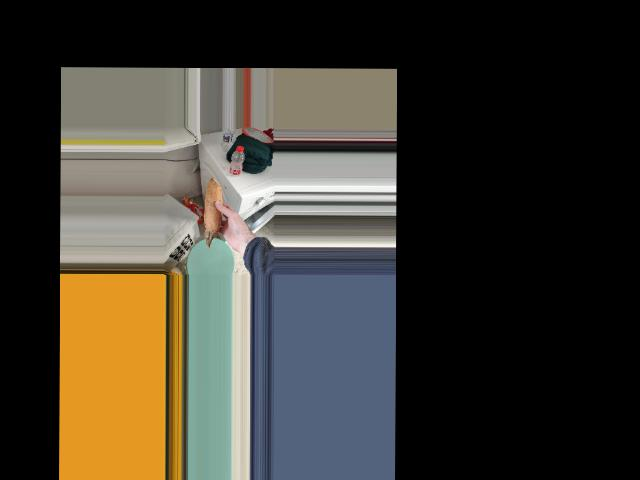sweet_potato: (204, 186, 227, 246)
